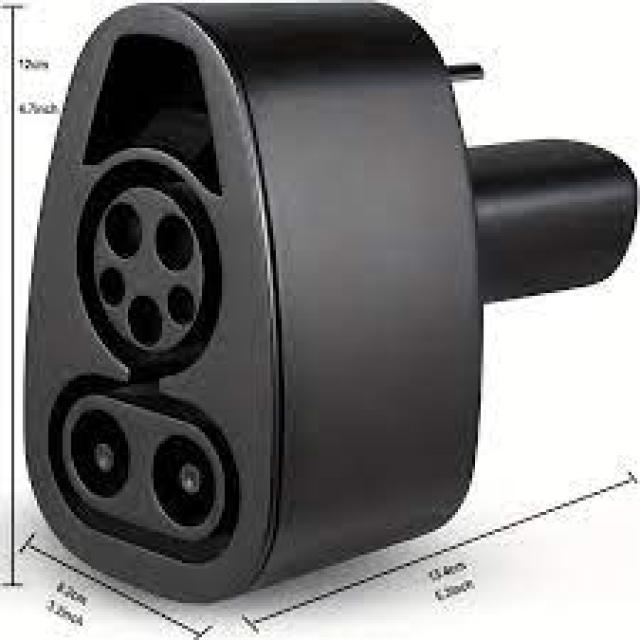CCS1: (25, 91, 322, 610)
